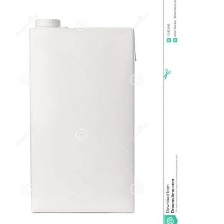carton: (26, 13, 140, 215)
